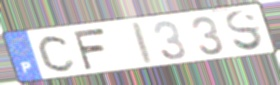3: (153, 19, 188, 61), (191, 15, 225, 56)
C: (36, 33, 78, 73)
F: (70, 26, 108, 72)
I: (131, 20, 157, 67)
S: (224, 9, 266, 53)
